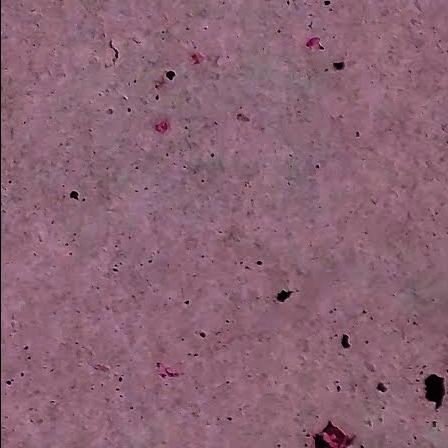spalling: (311, 417, 355, 448)
